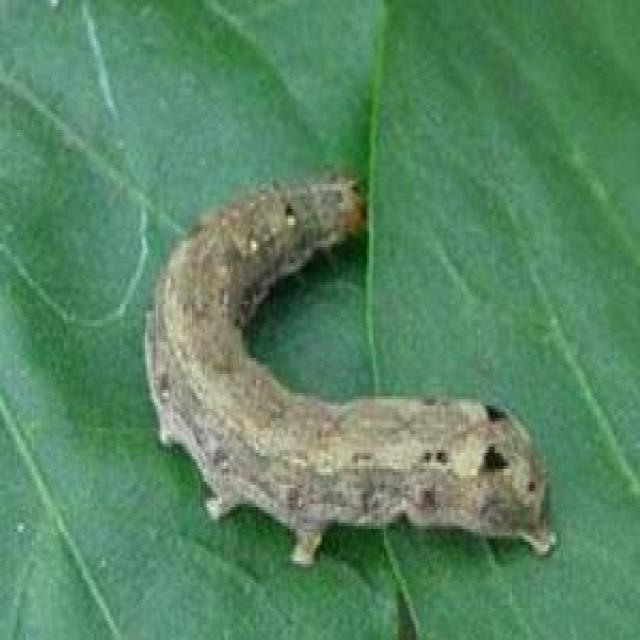BeetArmyWorm-Larva-: (127, 166, 569, 583)
